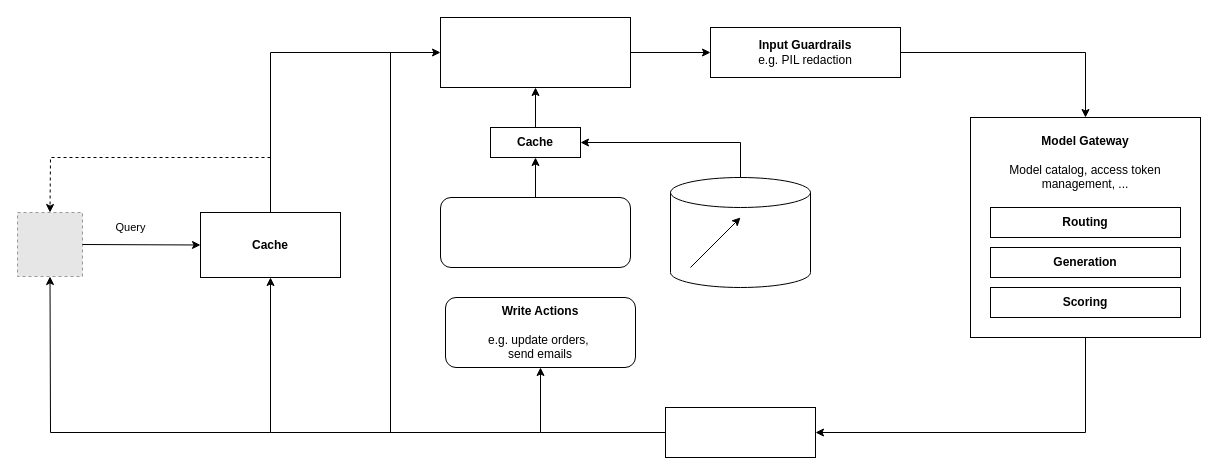
The diagram is 1218 pixels wide and 475 high, and some of its shapes have lost their labels. Grey dashed boxes stand in for pictures. The shapes that lost their labels are listed below. From the top down, each one's centre as x and y in pixels, then its label:
(535,52): Context Construction e.g. RAG, agent, query rewriting
(535,232): Read-only Actions e.g. vector search, run SQL queries, web search
(740,232): Databases e.g. documents, tables, chat history, vectorDB
(740,432): Output Guardrails - Safety/verification - Structured outputs
